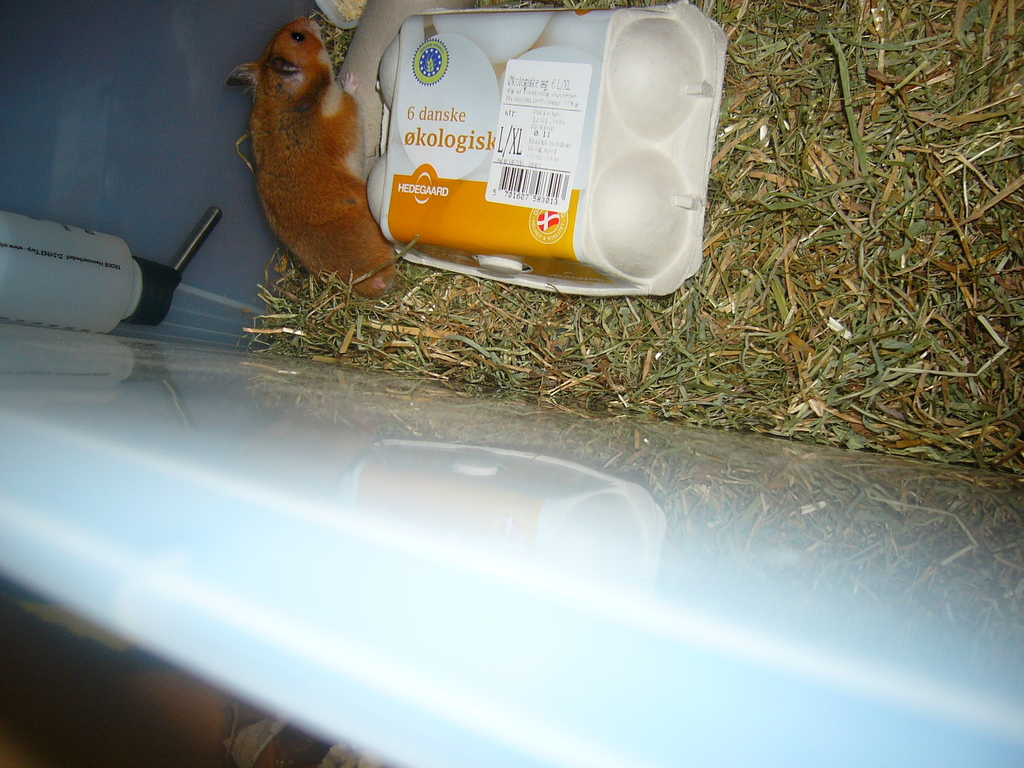Animal: (220, 14, 399, 302)
